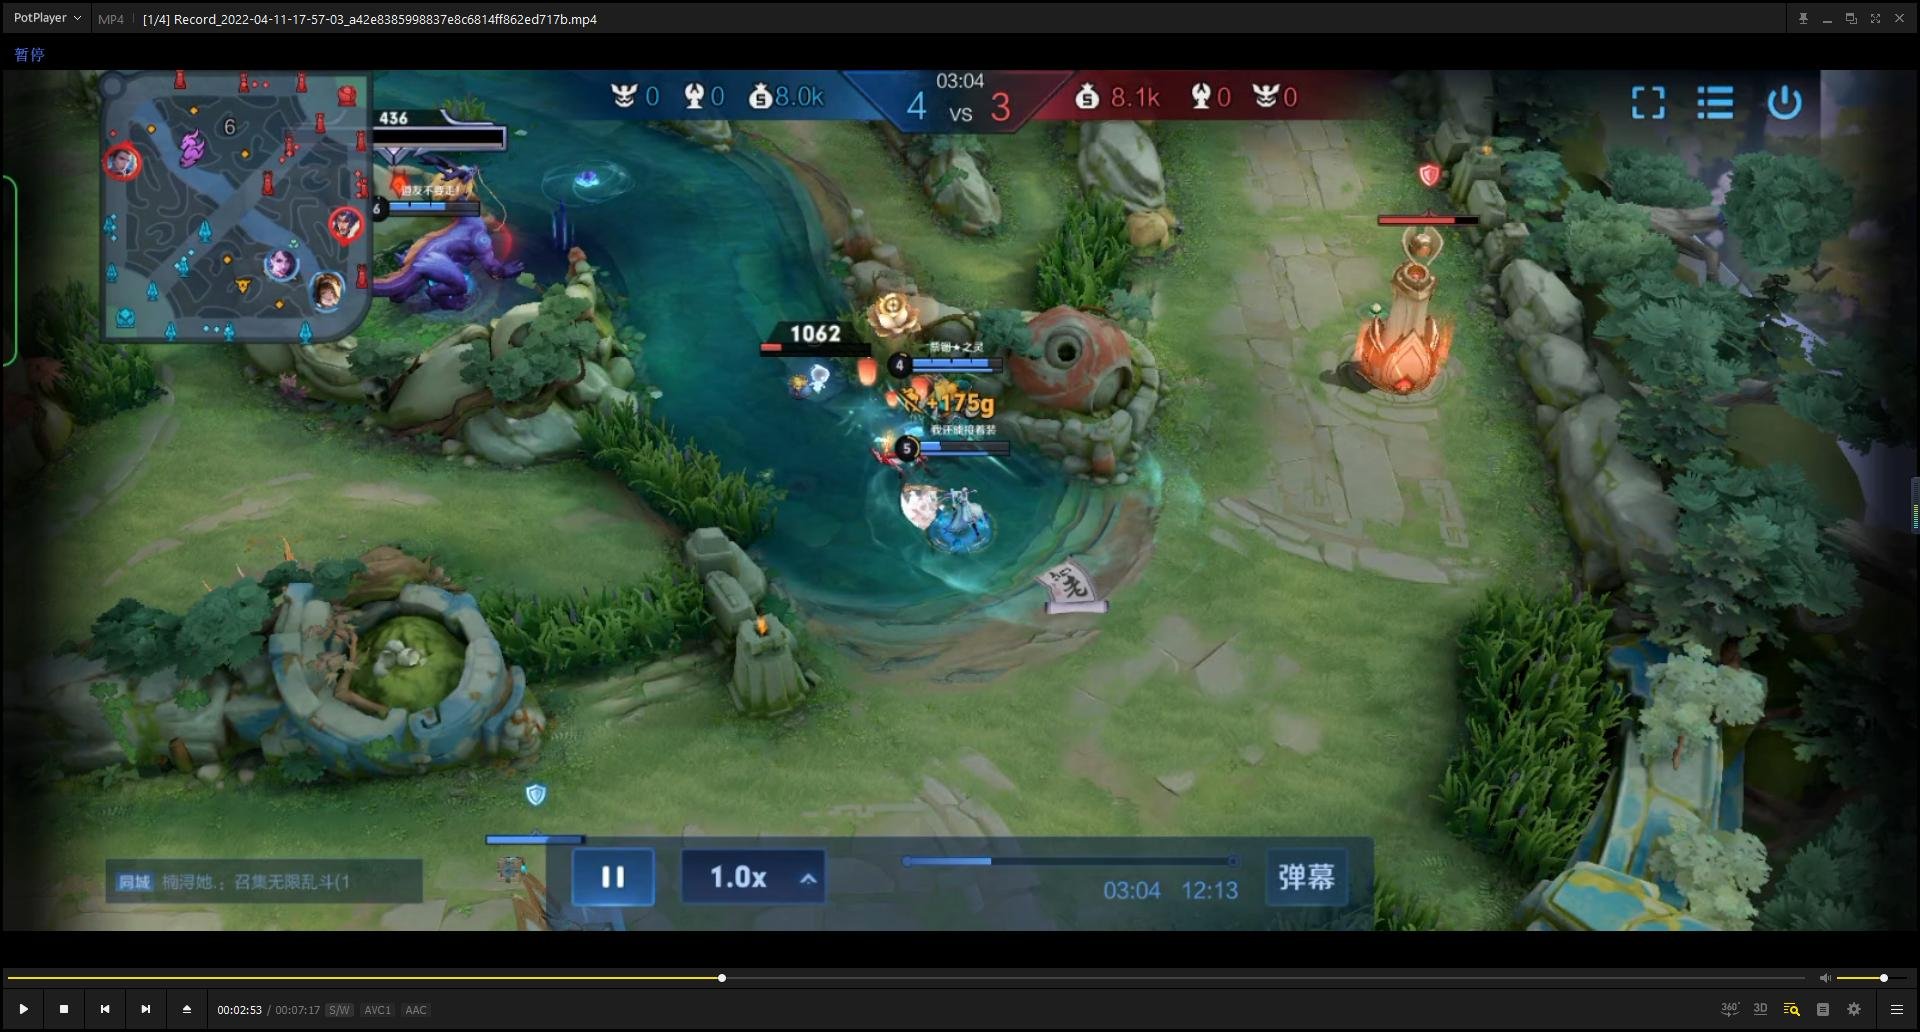BaoJun: (327, 104, 571, 343)
Hero: (895, 480, 1041, 554), (891, 377, 1006, 445)
Spirit: (737, 323, 853, 402)
Tower: (1333, 198, 1499, 407), (445, 825, 637, 935)
